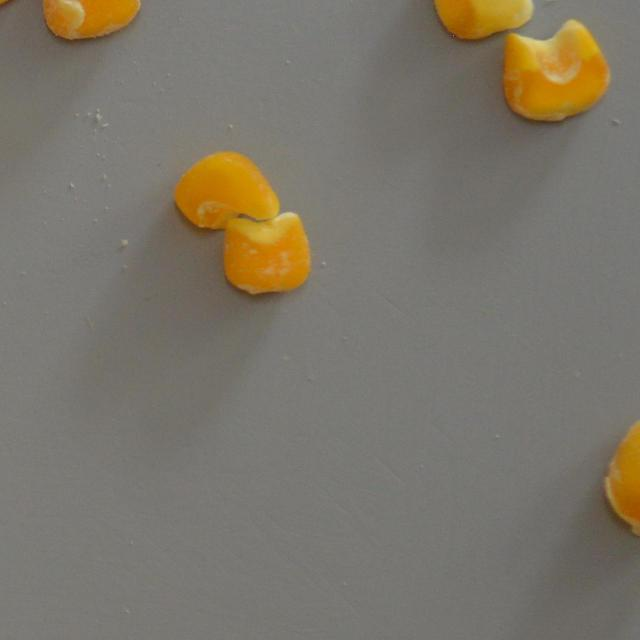no_canjicado: (174, 151, 280, 228), (430, 0, 534, 38)
pelicula: (500, 19, 610, 120), (222, 208, 312, 296), (602, 410, 640, 538), (40, 0, 141, 42)
